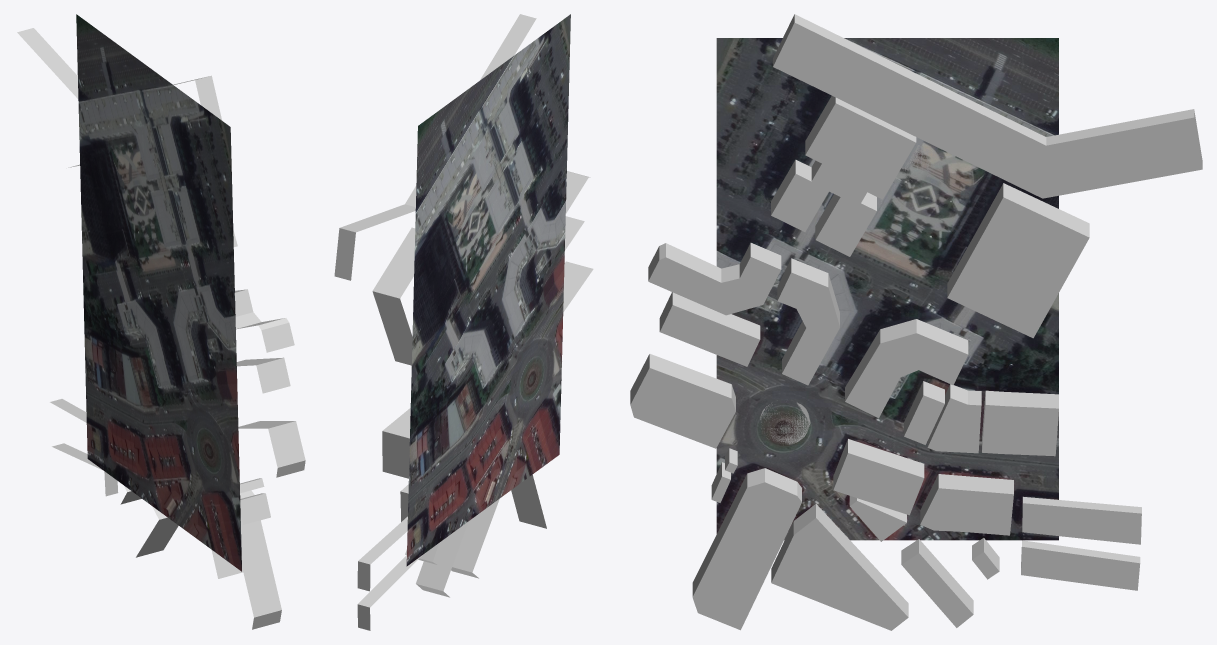
File: cityv4.gltf
3 renders of one model, left to right at view 1: azimuth 30°, elevation 25°; view 2: azimuth 150°, elevation 25°; view 3: azimuth 270°, elevation 25°, orthographic. The views are drawn at different scales.
Visible parts, largest first — view 1: EXPORT_GOOGLE_SAT_WM, Areas:building; view 2: EXPORT_GOOGLE_SAT_WM, Areas:building; view 3: Areas:building, EXPORT_GOOGLE_SAT_WM, Areas:leisure.
Boxes of the visible parts, x1,y1,x2,y2 form: EXPORT_GOOGLE_SAT_WM: (76, 14, 241, 571); Areas:building: (17, 28, 305, 629); EXPORT_GOOGLE_SAT_WM: (406, 14, 570, 566); Areas:building: (334, 14, 593, 630); Areas:building: (630, 14, 1202, 630); EXPORT_GOOGLE_SAT_WM: (716, 38, 1058, 540); Areas:leisure: (760, 145, 949, 444).
Bounding box in the file's own units: 4.1 × 50.47 × 43.94.
Materials: 1 (1 with a texture image).
